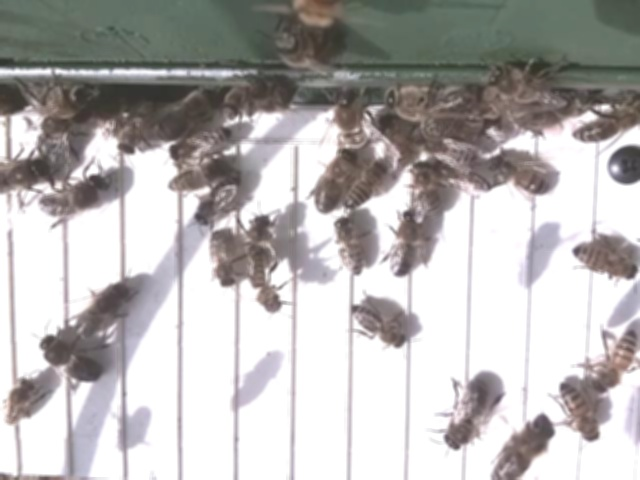Drone: (440, 376, 491, 457), (72, 281, 134, 345), (34, 174, 108, 226), (36, 333, 104, 386), (312, 148, 357, 220), (387, 208, 421, 282)
Worker: (590, 326, 640, 394), (191, 172, 246, 232), (346, 302, 409, 352), (555, 378, 601, 445), (487, 153, 554, 198), (570, 242, 640, 284), (244, 249, 283, 318), (342, 161, 390, 213), (166, 156, 226, 196), (332, 216, 366, 278), (0, 377, 40, 428), (412, 161, 445, 221), (208, 230, 238, 291)
